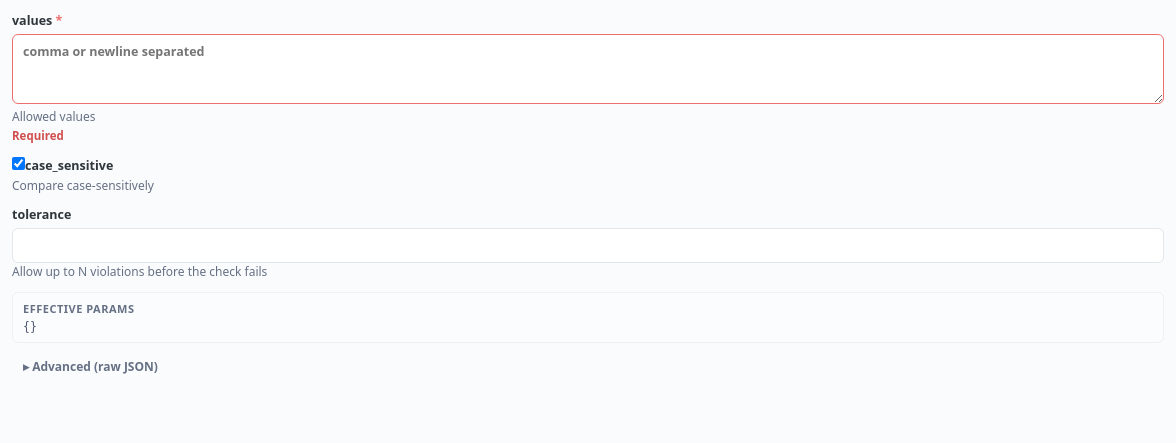
Test: inline error rendering › shows Required until a required list gets a value
This screenshot has width=1176, height=443.
Expected: the message reads "Required", [12, 128, 64, 143]
Type "active, inactive" into the text box labelled "values * Allowed values Required" at x=588, y=69, box [12, 34, 1164, 104]
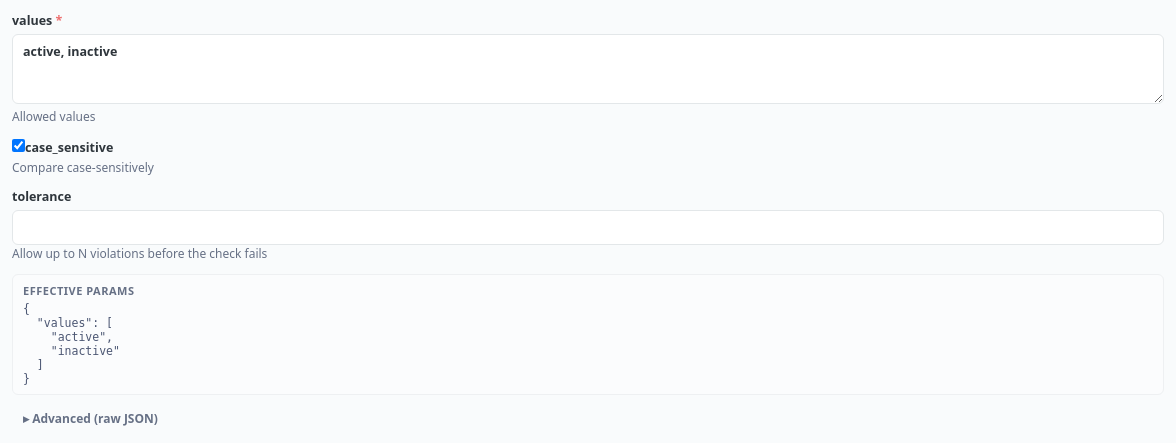
Result: the message "Required" is gone
